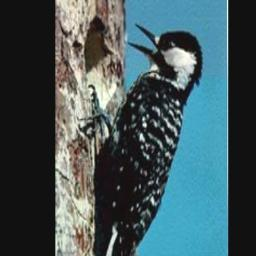Woodpecker: (77, 17, 209, 256)
